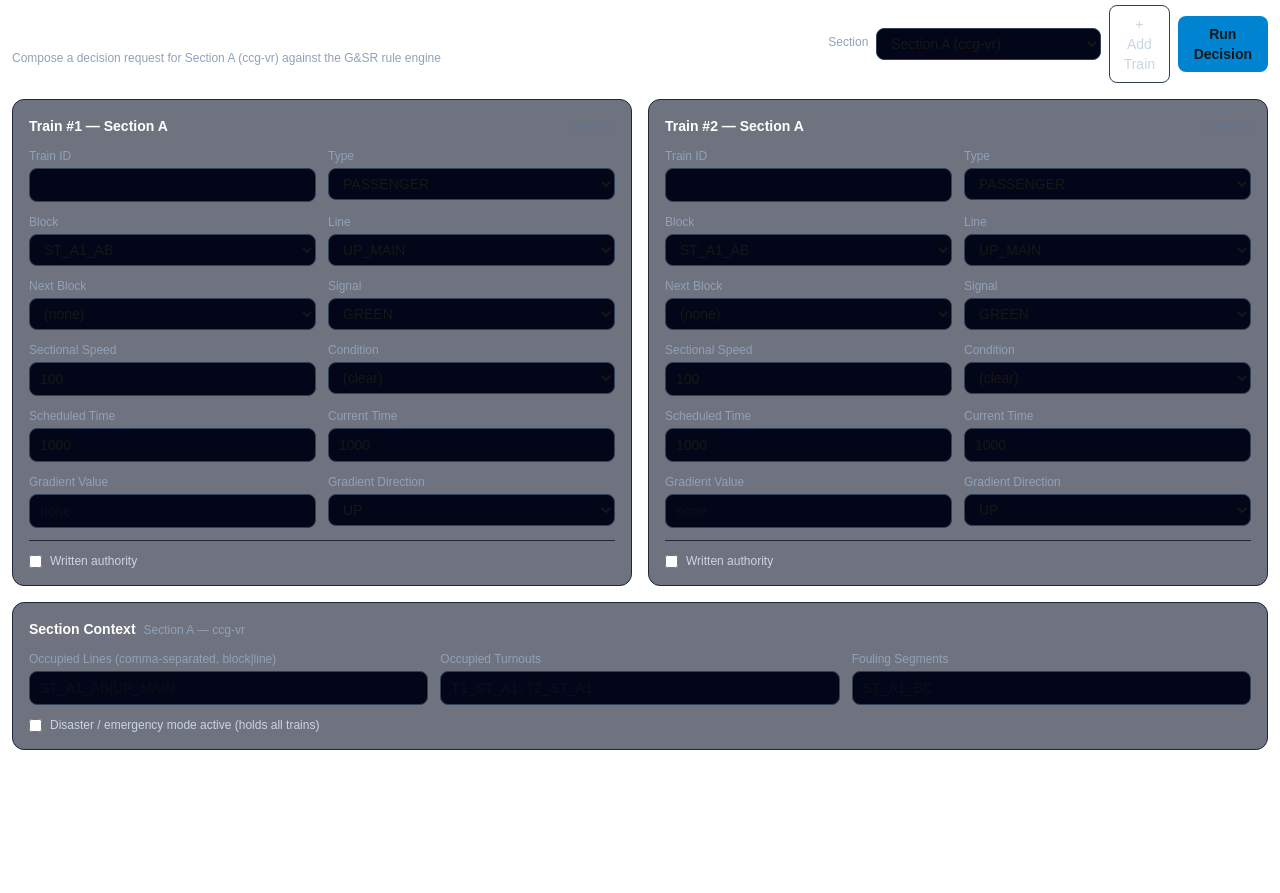
Test: DecisionPanel › renders ALLOWED/HOLD badges, chips, reasons and optimized order
Expected: the heading "Train #1 — Section A" is shown, [29,116,168,136]
Click the button "Run Decision". click: (1223,44)
box: [1178,16,1268,72]
(page scrolled)
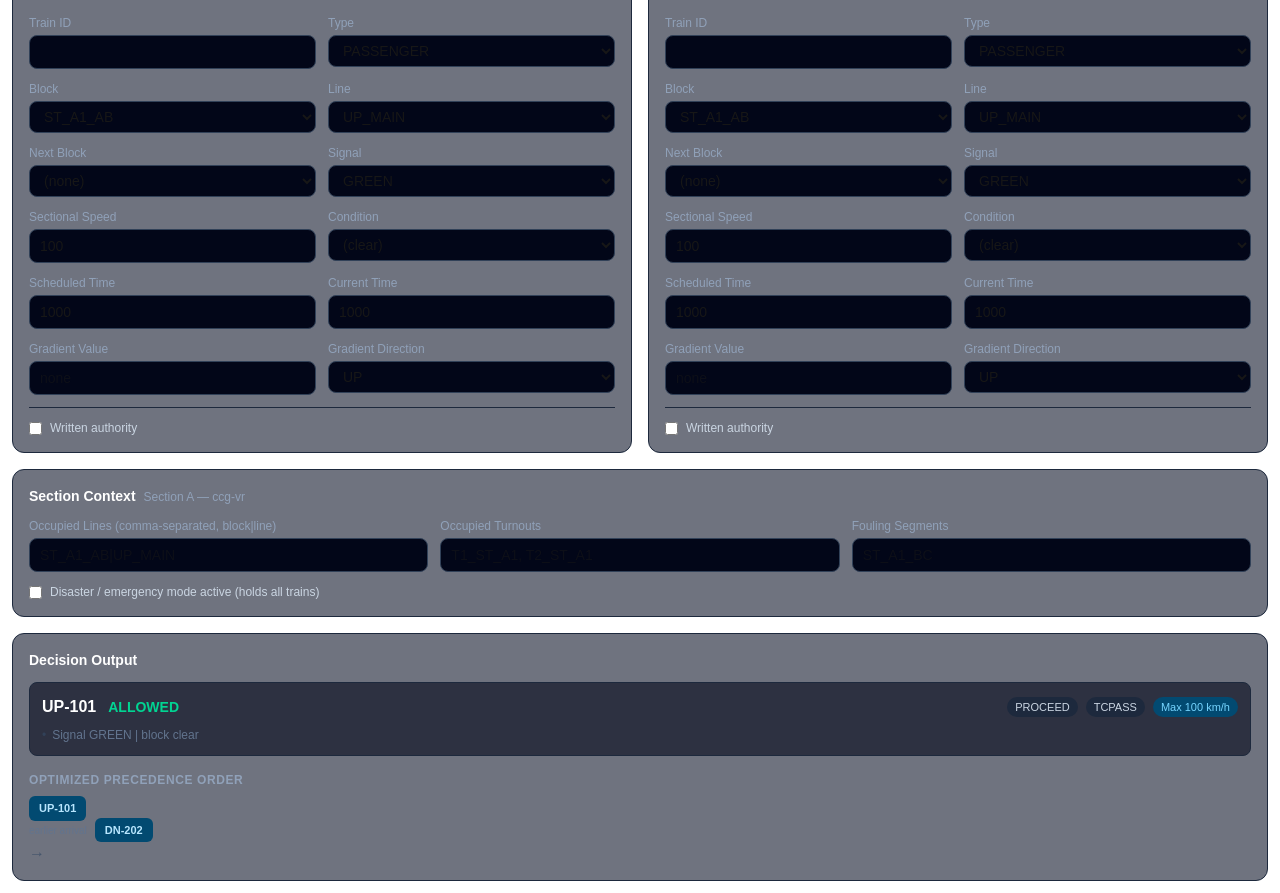
Now the heading "Decision Output" is shown, box [29,652,137,668]
Now the text "ALLOWED" is shown, box [108,697,179,717]
Now the text "PROCEED" is shown, box [1007,697,1078,717]
